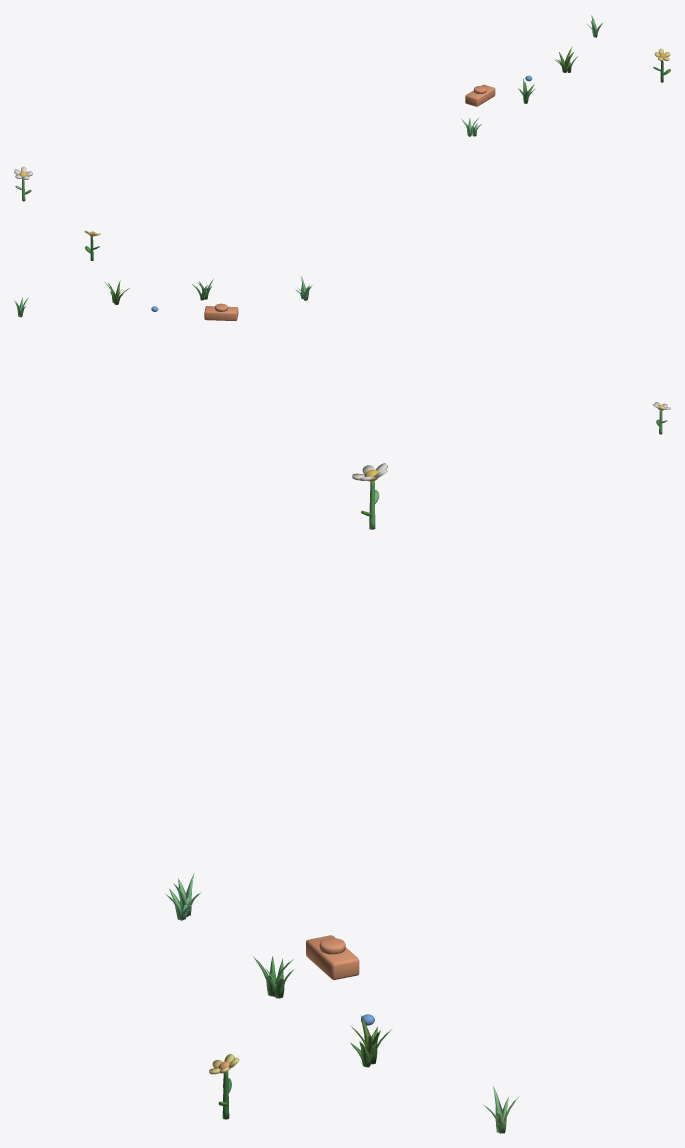
File: W1_FloraRing_9_11.fbx
3 views of the same model, one above another, from view 1: azimuth 30°, elevation 25°; view 2: azimuth 150°, elevation 25°; view 3: azimuth 270°, elevation 25° (orthographic). The views are drawn at different scales.
Parts seen in each view (by area): view 1: W1_FloraRing_9_11; view 2: W1_FloraRing_9_11; view 3: W1_FloraRing_9_11.
Boxes of the visible parts, bbox=[...] form: W1_FloraRing_9_11: bbox=[14, 15, 670, 201]; W1_FloraRing_9_11: bbox=[14, 230, 670, 434]; W1_FloraRing_9_11: bbox=[165, 463, 519, 1133].
Size of the model in its own units: 3.71 by 0.2172 by 0.9209.
